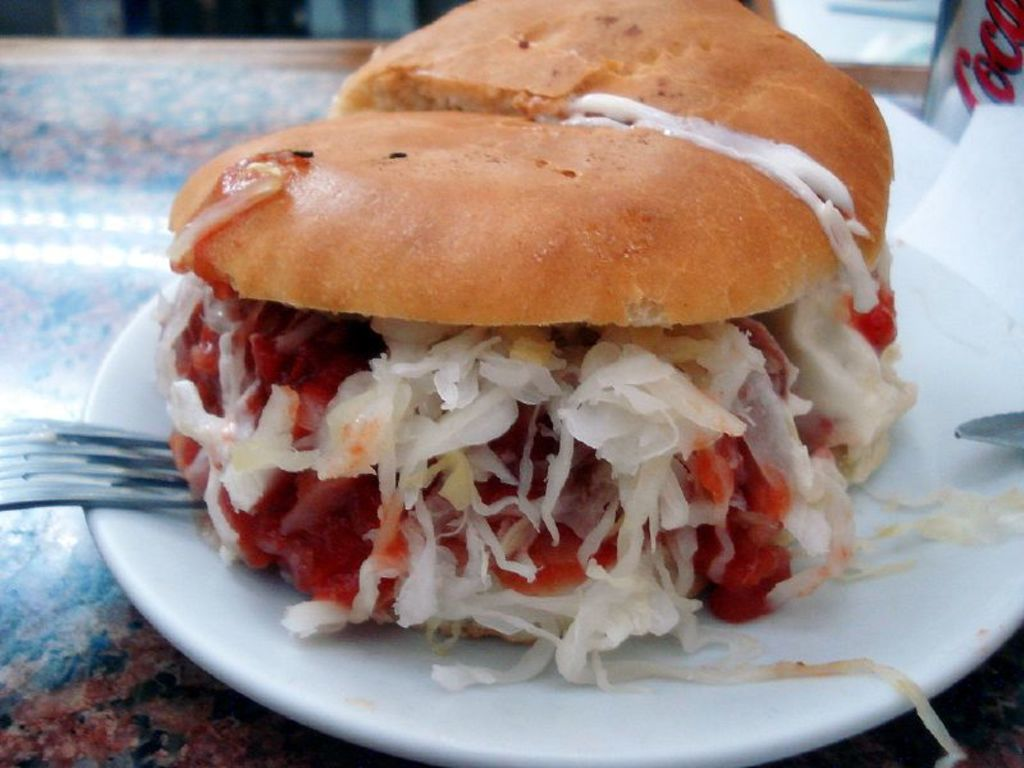Hamburger: (149, 0, 1022, 766)
